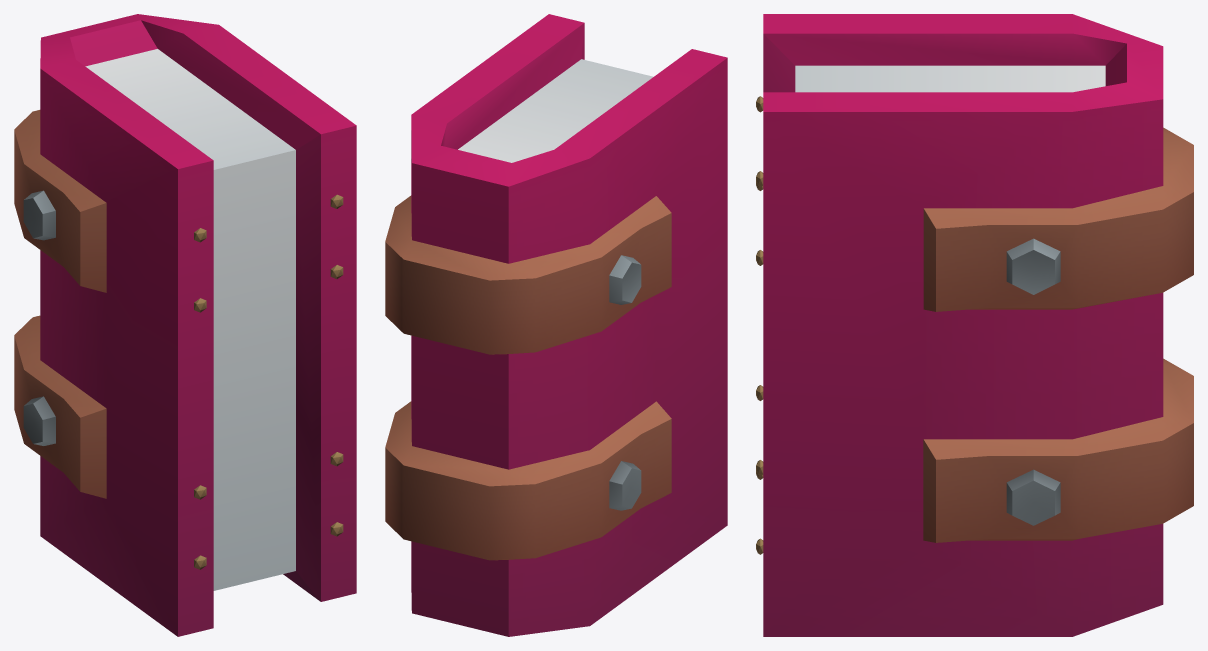
File: libro_inicial.glb
The picture shows the model from 3 angles, left to right: view 1: azimuth 30°, elevation 25°; view 2: azimuth 150°, elevation 25°; view 3: azimuth 270°, elevation 25°; orthographic projection. The views are drawn at different scales.
Parts seen in each view (by area): view 1: libro_inicial_finished; view 2: libro_inicial_finished; view 3: libro_inicial_finished.
Part boxes in pixels (x1,y1,x2,y2): libro_inicial_finished: (14,14,356,636); libro_inicial_finished: (385,14,727,636); libro_inicial_finished: (756,14,1193,636).
Bounding box in the file's own units: 0.293 × 0.575 × 0.4344.
2 materials, 2 textured.
